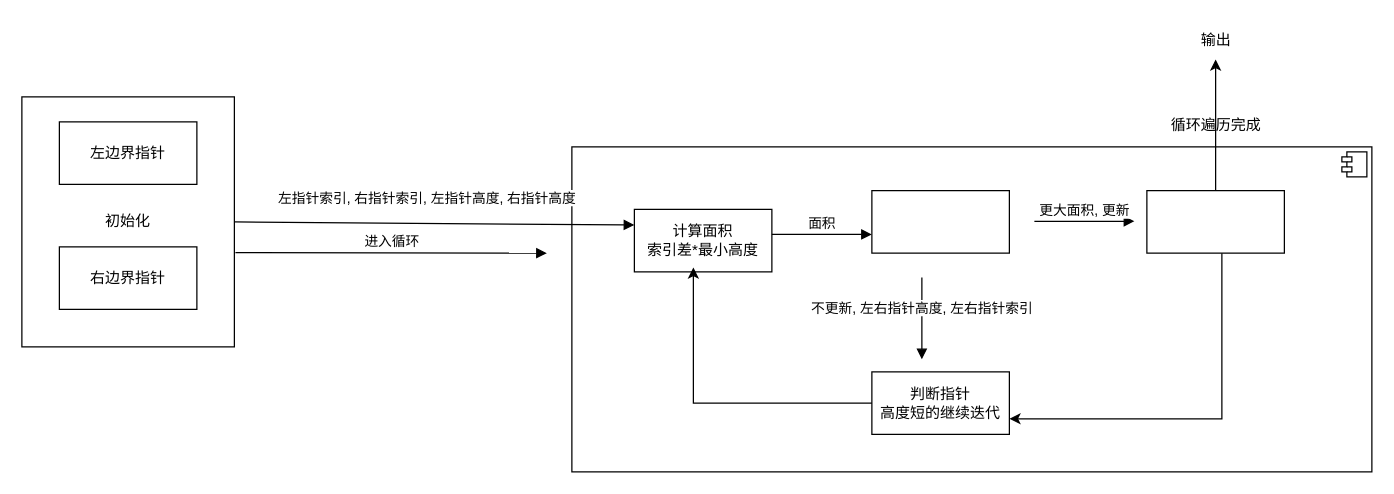
The diagram is 1394 pixels wide and 494 high, and some of its shapes have lost their labels. Here are the shapes that lost their labels. From the top down, the centre of each, then its label:
the point at 940,221: 判断面积是否更新
the point at 1215,221: 最大面积
